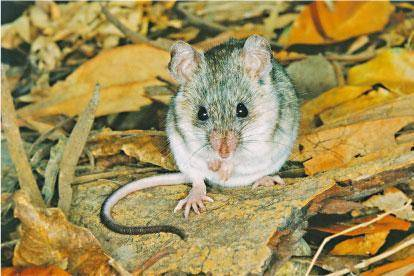mouse: (151, 32, 291, 209)
